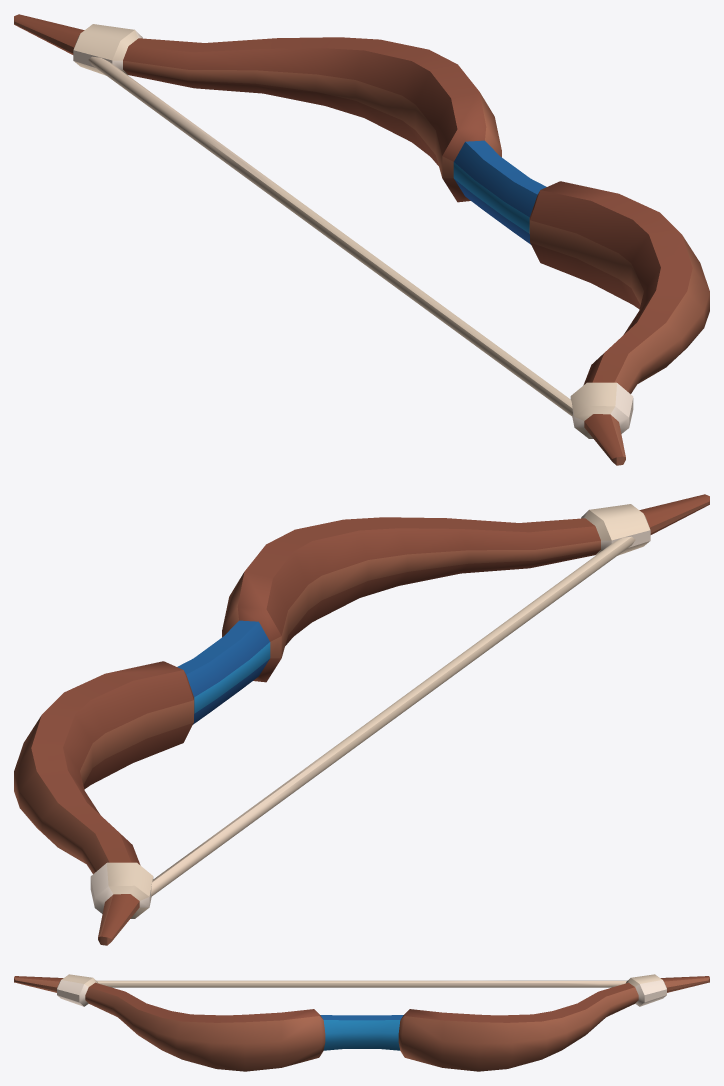
File: bow_withString.glb
3 views of the same model, one above another, from view 1: azimuth 30°, elevation 25°; view 2: azimuth 150°, elevation 25°; view 3: azimuth 270°, elevation 25° (orthographic). The views are drawn at different scales.
Visible parts, largest first — view 1: bow_withString; view 2: bow_withString; view 3: bow_withString.
Boxes of the visible parts, x1,y1,x2,y2 form: bow_withString: (14,14,709,465); bow_withString: (14,494,709,945); bow_withString: (14,974,709,1071).
Bounding box in the file's own units: 0.4944 × 0.1556 × 1.98.
1 material, 1 textured.
